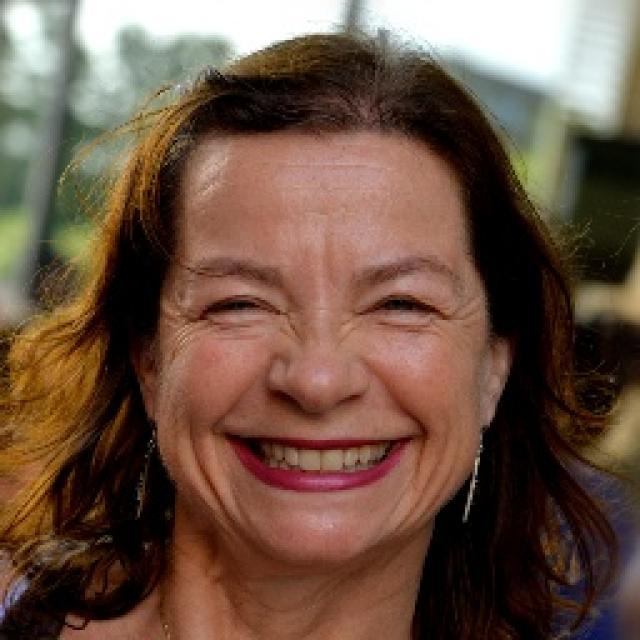earlobe: (479, 330, 512, 430), (125, 328, 158, 422)
